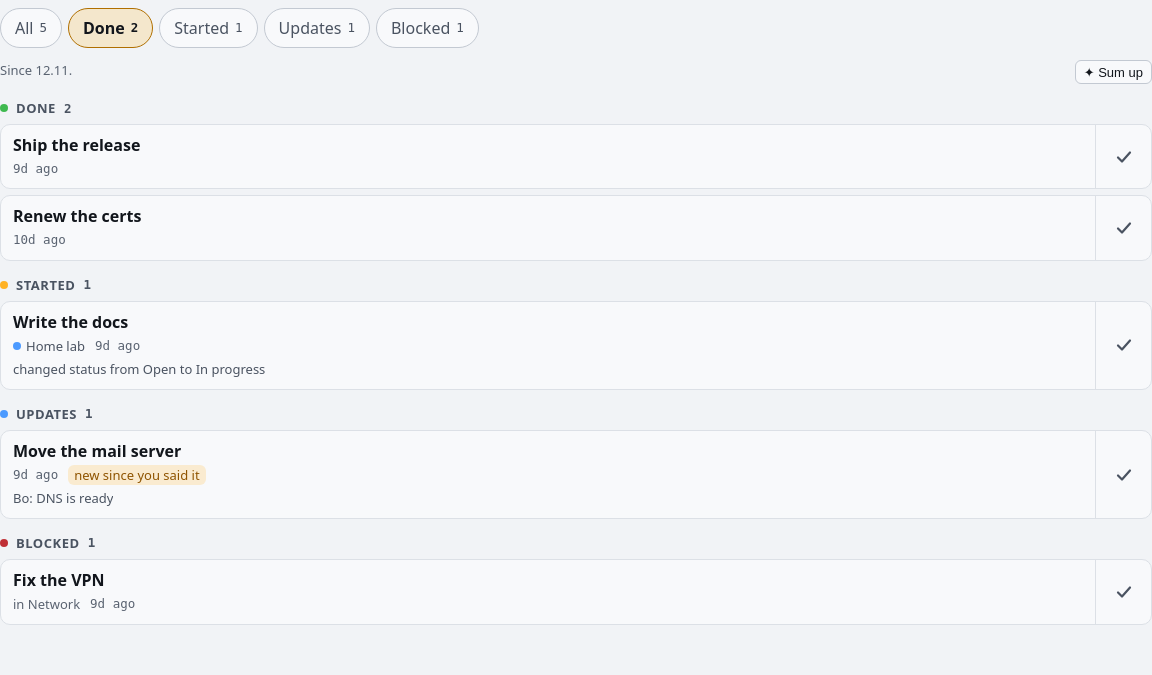
Test: sum up with the assistant › runs only on the button and shows the lines, without list marks
Click the button "✦ Sum up". click: x=1113, y=72
box: x1=1075 y1=60 x2=1151 y2=84
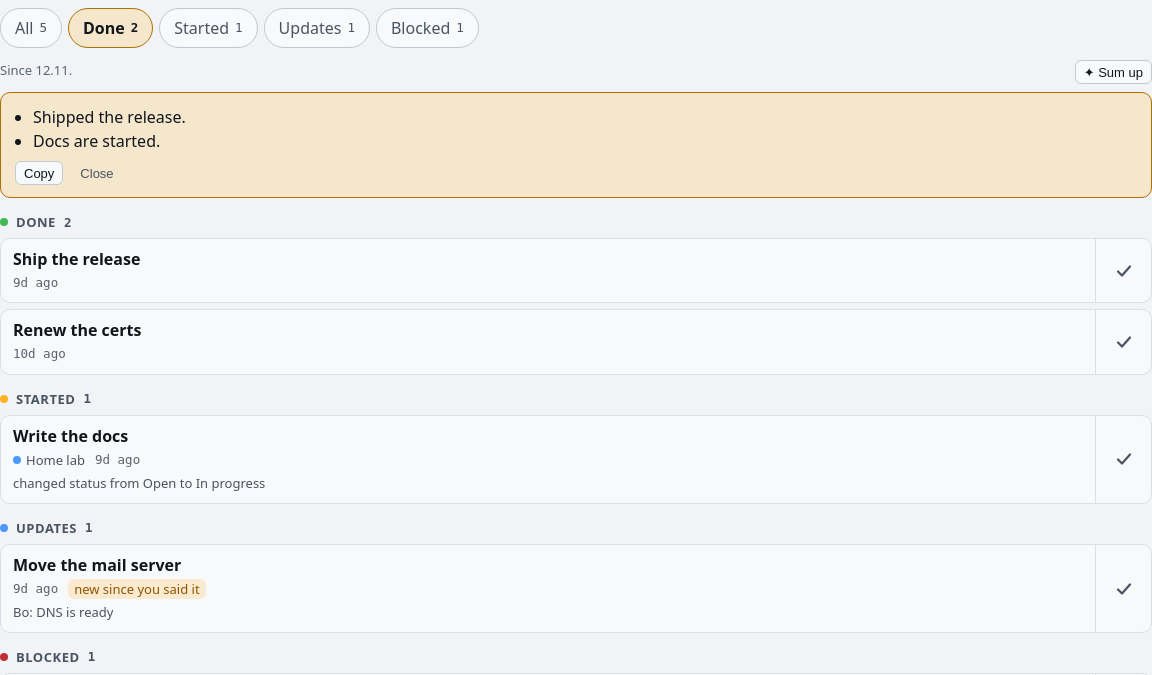
Expected: the list items read "Shipped the release.", "Docs are started.", in this order, x1=33 y1=106 x2=186 y2=128; x1=33 y1=130 x2=160 y2=152
Click the button "Close". click: x=97, y=173
box: x1=71 y1=161 x2=123 y2=185
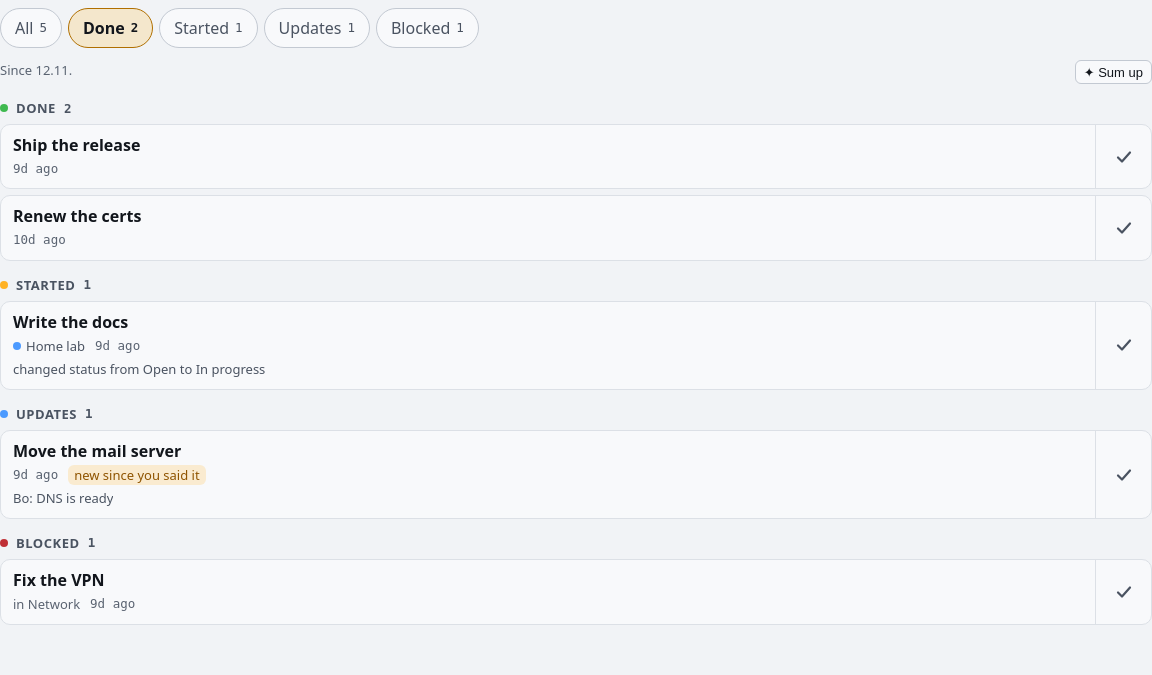
Expected: the element "Summary" is gone
